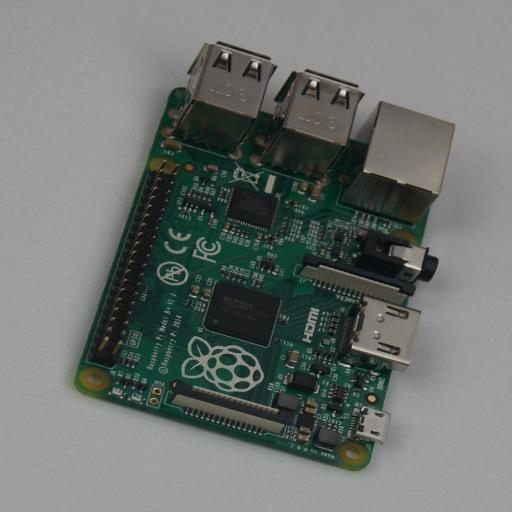Raspberry Pi 1 B-: (74, 41, 454, 471)
